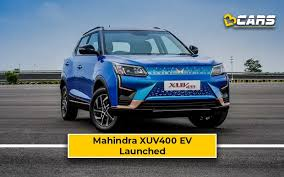XUV 400: (58, 23, 231, 133)
